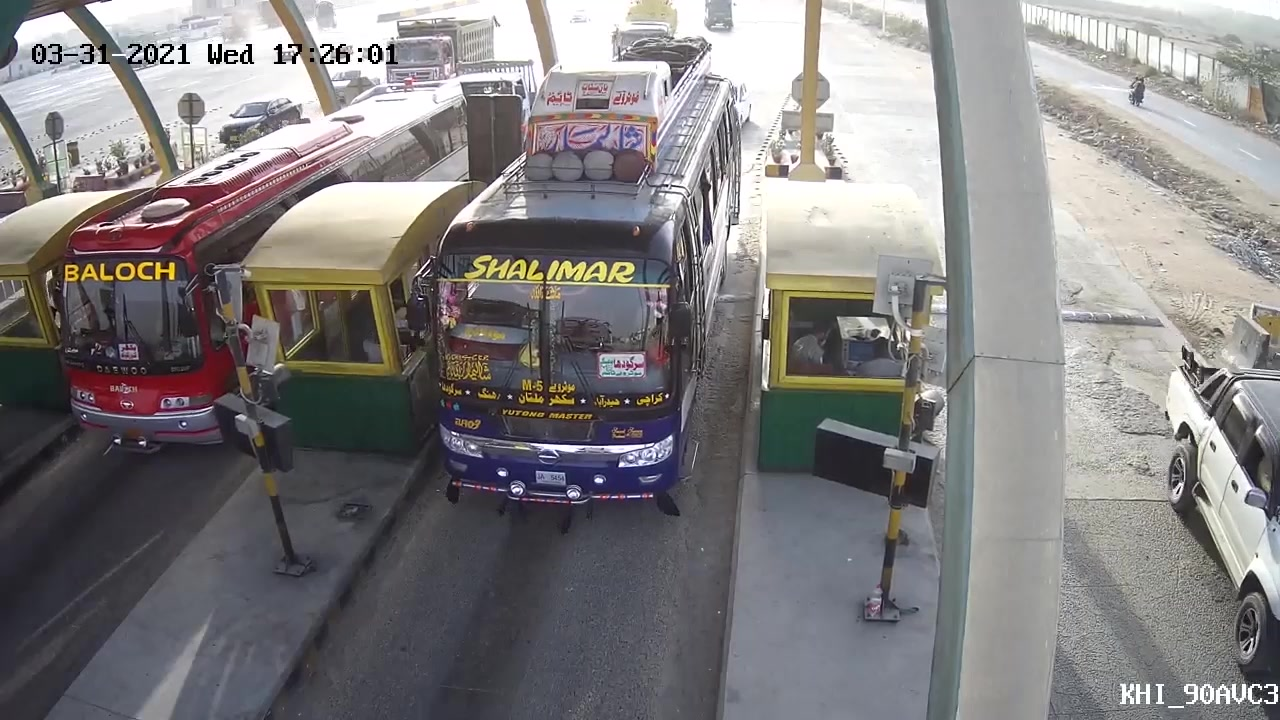F4: (434, 33, 752, 534)
